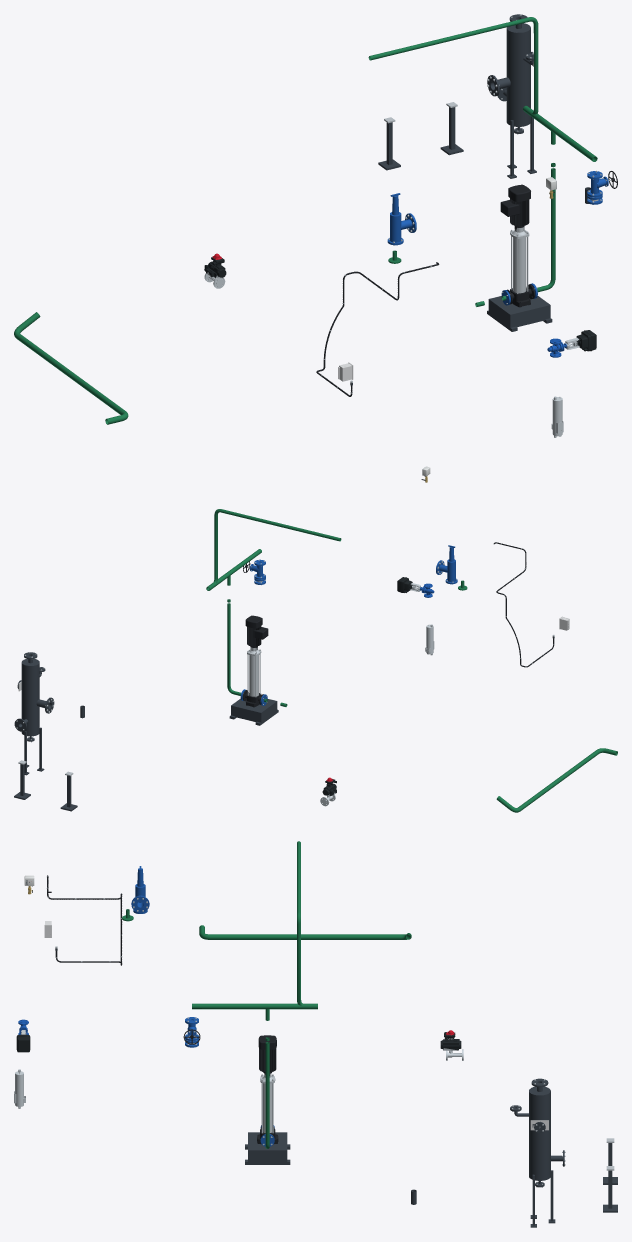
File: s4000-6-DCw_Z8pp.glb
3 views of the same model, one above another, from view 1: azimuth 30°, elevation 25°; view 2: azimuth 150°, elevation 25°; view 3: azimuth 270°, elevation 25° (orthographic). The views are drawn at different scales.
Parts seen in each view (by area): view 1: separator_fv8 / dark, pump_branch_2 / dark, to_direct / green, deaerator_feed / green, pump_2 CAD solid 15, trap_support / dark, safety_2 / blue, pump_branch_2 / green, bcv925 / bcv925_0.npz, pump_2 CAD solid 2, wiring_high_level / black, pump_delivery / green; view 2: separator_fv8 / dark, pump_branch_2 / dark, to_direct / green, deaerator_feed / green, pump_2 CAD solid 15, pump_branch_2 / green, trap_support / dark; view 3: separator_fv8 / dark, deaerator_feed / green, pump_branch_2 / dark, pump_delivery / green, to_direct / green, pump_branch_2 / green, pump_2 CAD solid 15.
Part boxes in pixels (<box>): separator_fv8 / dark: <box>487,14,536,178</box>; pump_branch_2 / dark: <box>487,296,552,331</box>; to_direct / green: <box>368,17,538,114</box>; deaerator_feed / green: <box>14,312,128,424</box>; pump_2 CAD solid 15: <box>500,184,530,226</box>; trap_support / dark: <box>378,107,463,170</box>; safety_2 / blue: <box>387,193,416,245</box>; pump_branch_2 / green: <box>475,131,555,306</box>; bcv925 / bcv925_0.npz: <box>547,330,596,357</box>; pump_2 CAD solid 2: <box>513,237,526,293</box>; wiring_high_level / black: <box>316,262,439,396</box>; pump_delivery / green: <box>523,106,597,161</box>; separator_fv8 / dark: <box>14,652,54,775</box>; pump_branch_2 / dark: <box>229,699,278,725</box>; to_direct / green: <box>206,509,341,590</box>; deaerator_feed / green: <box>496,748,617,812</box>; pump_2 CAD solid 15: <box>245,615,268,647</box>; pump_branch_2 / green: <box>227,575,287,706</box>; trap_support / dark: <box>14,764,77,811</box>; separator_fv8 / dark: <box>510,1078,564,1227</box>; deaerator_feed / green: <box>199,925,411,939</box>; pump_branch_2 / dark: <box>245,1132,290,1164</box>; pump_delivery / green: <box>192,1003,317,1009</box>; to_direct / green: <box>297,841,302,1005</box>; pump_branch_2 / green: <box>265,1009,269,1148</box>; pump_2 CAD solid 15: <box>258,1035,276,1072</box>.
Size of the model in its own units: 6.38 by 2.8 by 5.99.
